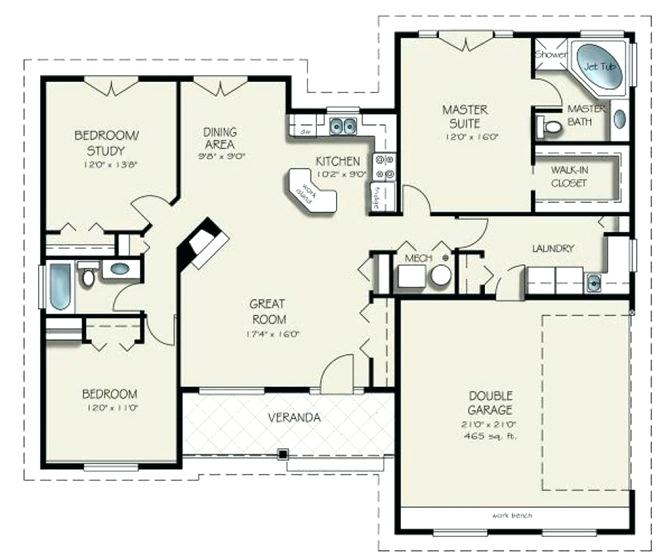door: (122, 188, 167, 223), (315, 348, 360, 383), (145, 312, 179, 349), (532, 79, 569, 110), (459, 216, 493, 249), (401, 176, 432, 207)
